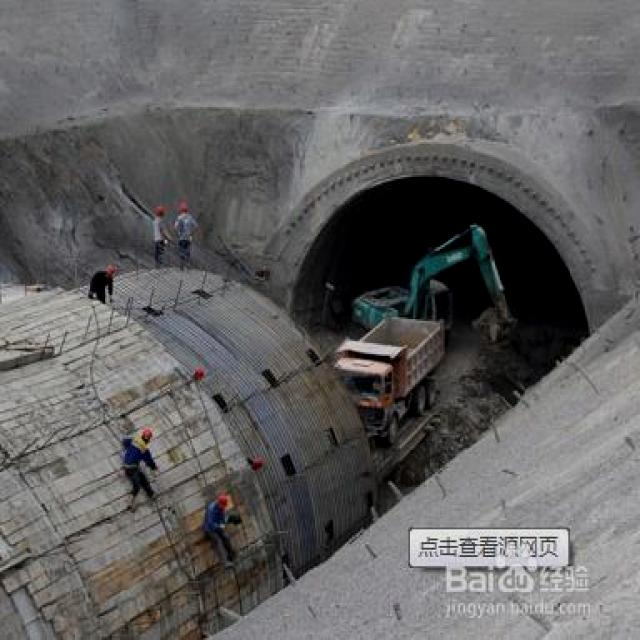head_helmet: (210, 492, 230, 509), (193, 367, 205, 384), (248, 458, 265, 468), (153, 205, 165, 216), (144, 428, 154, 441), (180, 203, 190, 214), (103, 264, 115, 273)
person: (200, 494, 243, 570), (122, 428, 162, 505), (85, 252, 122, 302), (148, 201, 172, 269), (173, 199, 197, 264)
